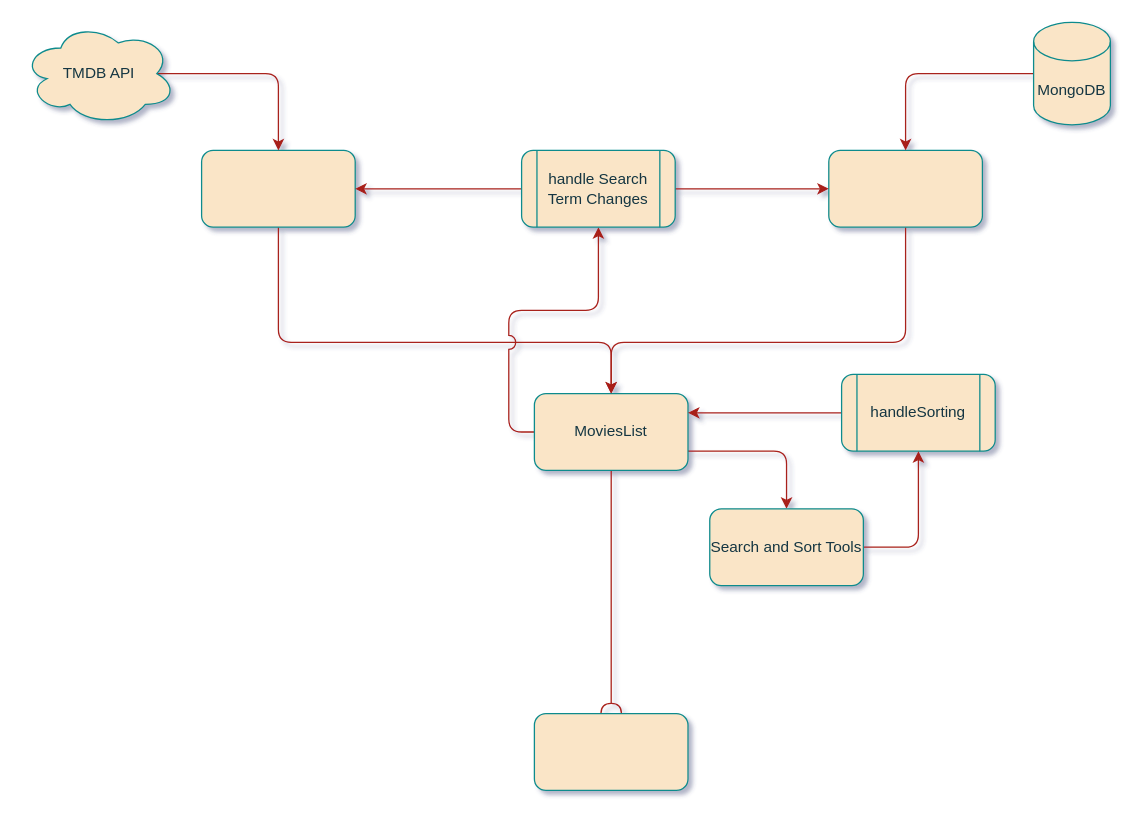
This 1140x820 diagram has some shape labels left out. The centre of each missing label's shape, as x and y in pixels:
"AddMovies" belongs at (x=277, y=188).
"HomePage" belongs at (x=905, y=188).
"MovieItem" belongs at (x=610, y=751).
